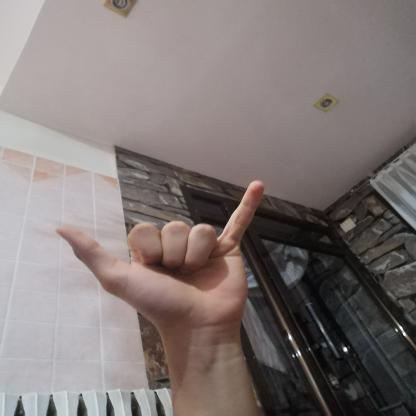YA: (41, 172, 287, 342)
